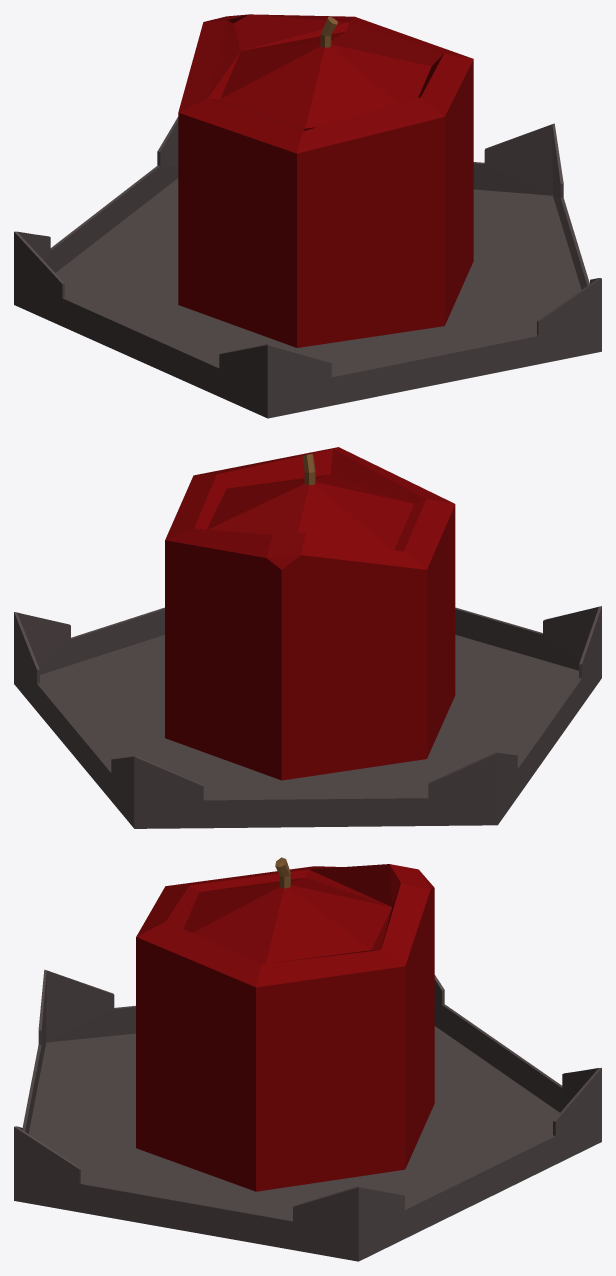
File: bougie.fbx
The picture shows the model from 3 angles, top to bottom: view 1: azimuth 30°, elevation 25°; view 2: azimuth 150°, elevation 25°; view 3: azimuth 270°, elevation 25°; orthographic projection. The views are drawn at different scales.
Parts seen in each view (by area): view 1: table de preparation.001; view 2: table de preparation.001; view 3: table de preparation.001.
Boxes of the visible parts, x1,y1,x2,y2 form: table de preparation.001: (14,14,601,418); table de preparation.001: (14,447,601,828); table de preparation.001: (14,857,601,1261).
Bounding box in the file's own units: 20.04 × 10.05 × 19.56.
